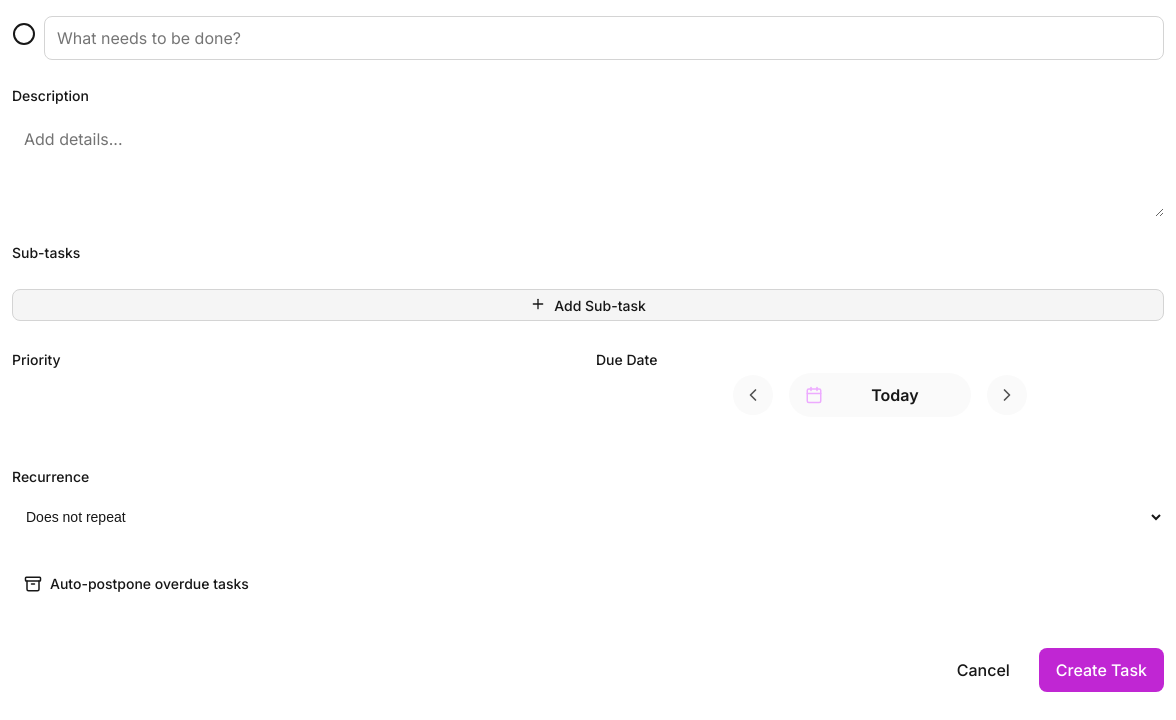
Scenario: TaskForm › validates required title (BR-077)
What coordinates should you click on to do the following:
click the button "Create Task"
I would click on:
 (1101, 670)
Its box is x1=1039 y1=648 x2=1164 y2=692.
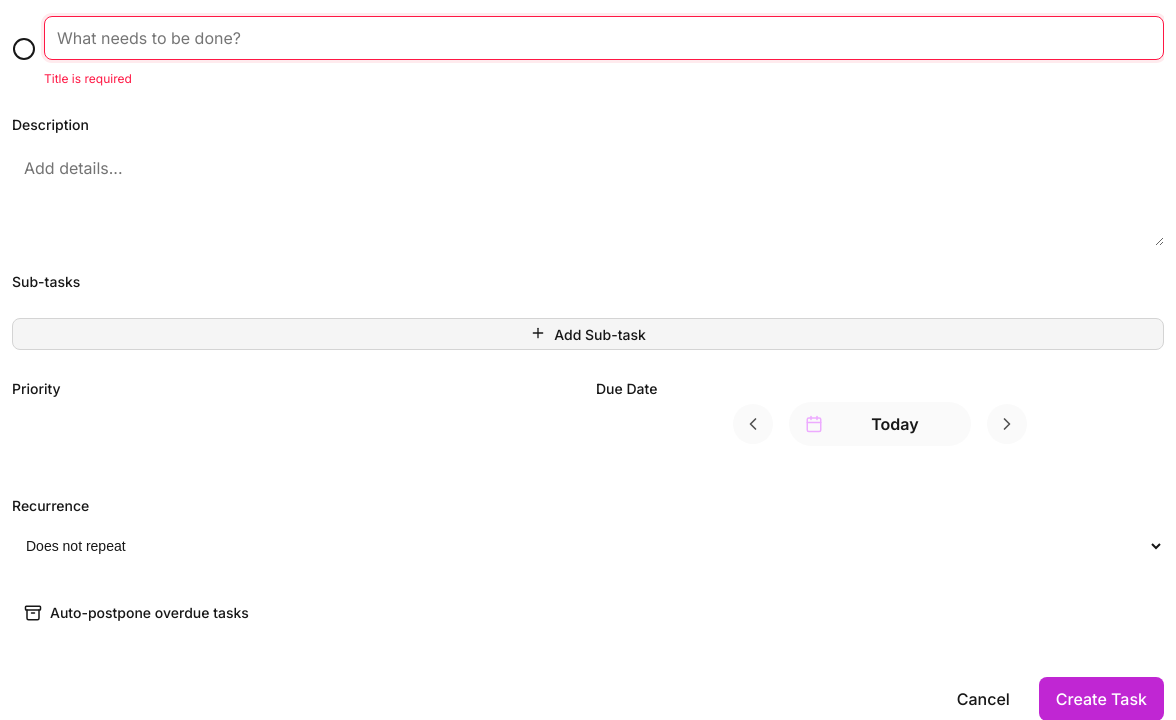
Expected: the text "Title is required" is shown, x1=44 y1=71 x2=132 y2=86
